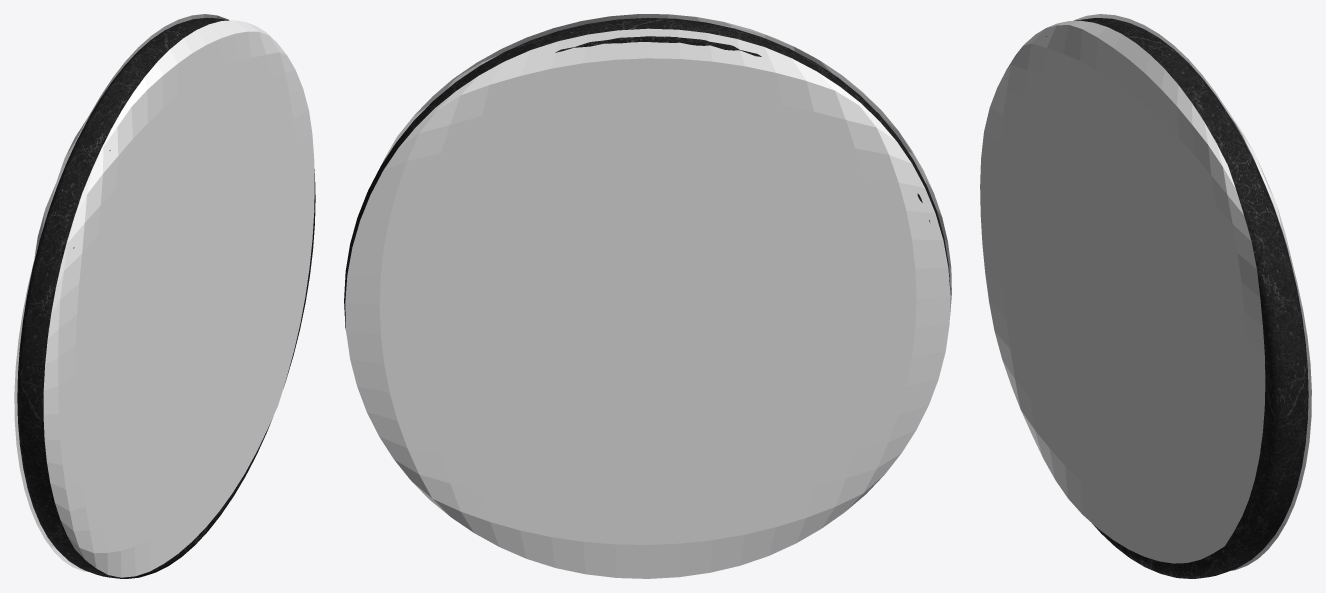
Rendered from american-plumbing.glb.
3 renders of one model, left to right at view 1: azimuth 30°, elevation 25°; view 2: azimuth 150°, elevation 25°; view 3: azimuth 270°, elevation 25°, orthographic. The views are drawn at different scales.
Visible parts, largest first — view 1: Frame 54.001, Twitter_high, Frame 54; view 2: Frame 54, Twitter_high, Frame 54.001; view 3: Frame 54.001, Twitter_high, Frame 54.
Boxes of the visible parts, x1,y1,x2,y2 form: Frame 54.001: [43, 20, 314, 577]; Twitter_high: [17, 18, 315, 578]; Frame 54: [14, 14, 229, 572]; Frame 54: [345, 28, 950, 578]; Twitter_high: [344, 18, 950, 329]; Frame 54.001: [382, 14, 951, 319]; Frame 54.001: [980, 20, 1265, 563]; Twitter_high: [1006, 18, 1308, 578]; Frame 54: [1073, 14, 1311, 570].
Size of the model in its own units: 1.87 by 2.13 by 1.23.
2 materials, 2 textured.
